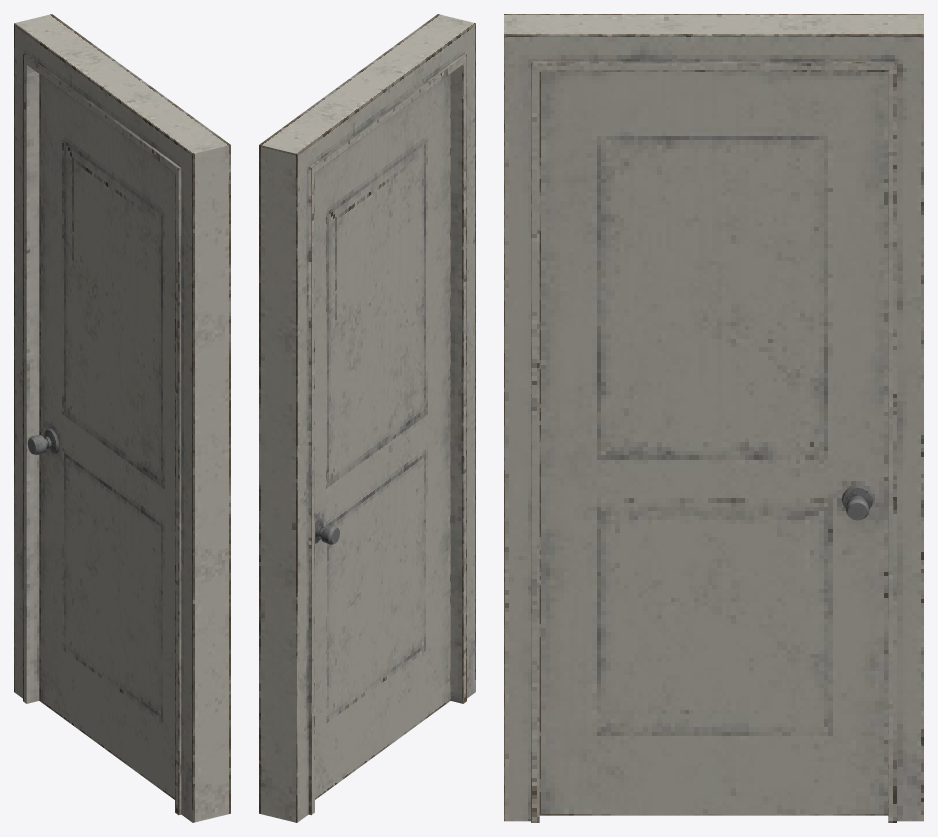
The model's file is door.glb.
3 views of the same model, side by side, from view 1: azimuth 30°, elevation 25°; view 2: azimuth 150°, elevation 25°; view 3: azimuth 270°, elevation 25° (orthographic). The views are drawn at different scales.
Parts seen in each view (by area): view 1: Door_low.002_Door_0; view 2: Door_low.002_Door_0; view 3: Door_low.002_Door_0.
Boxes of the visible parts, x1,y1,x2,y2 form: Door_low.002_Door_0: (14,14,230,822); Door_low.002_Door_0: (259,14,475,822); Door_low.002_Door_0: (504,14,923,822).
Size of the model in its own units: 0.1936 by 2.1 by 1.01.
Materials: 1 (1 with a texture image).
